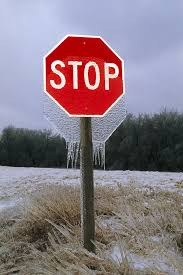stop: (37, 26, 135, 124)
